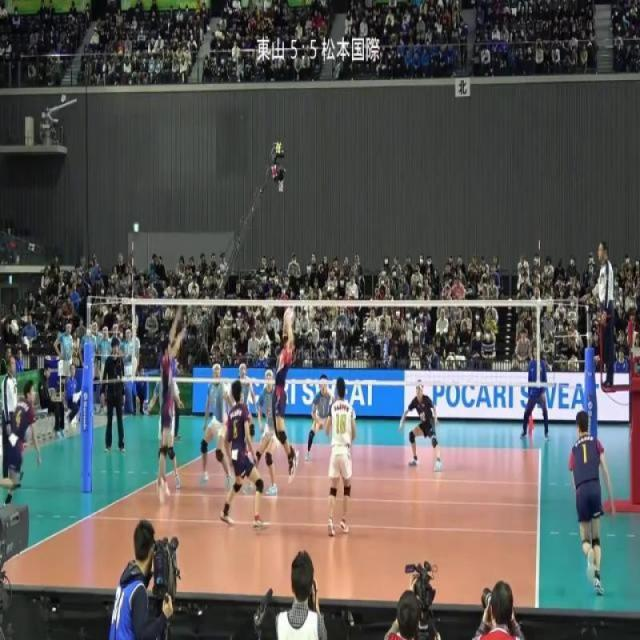volleyball: (284, 306, 294, 326)
